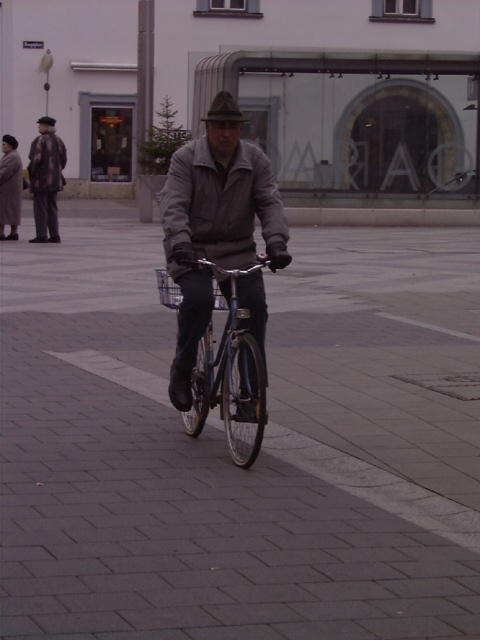person: (169, 93, 291, 421), (25, 118, 67, 243)
